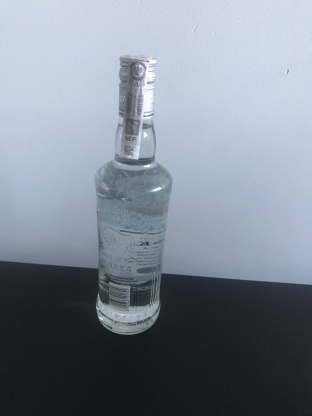nakretka: (115, 49, 160, 122)
